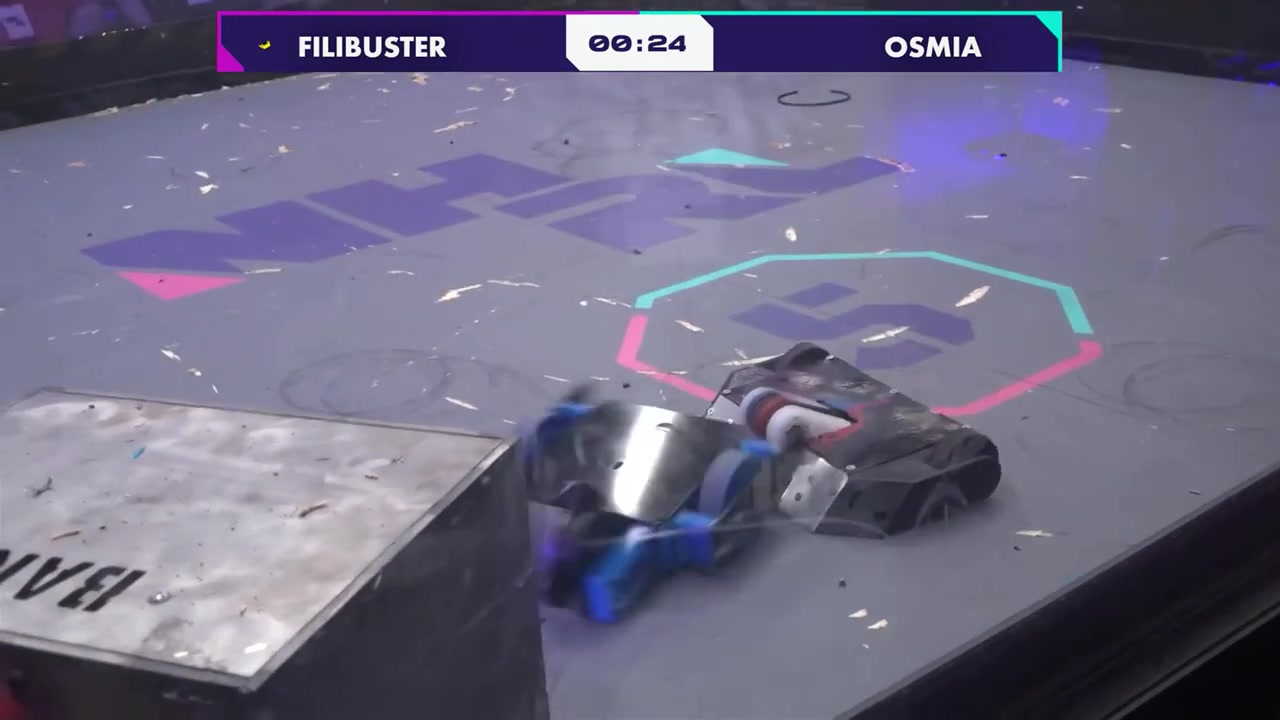belt: (777, 91, 850, 106)
combatbot: (528, 384, 782, 624), (723, 344, 1004, 536)
housebot: (0, 383, 550, 720)
